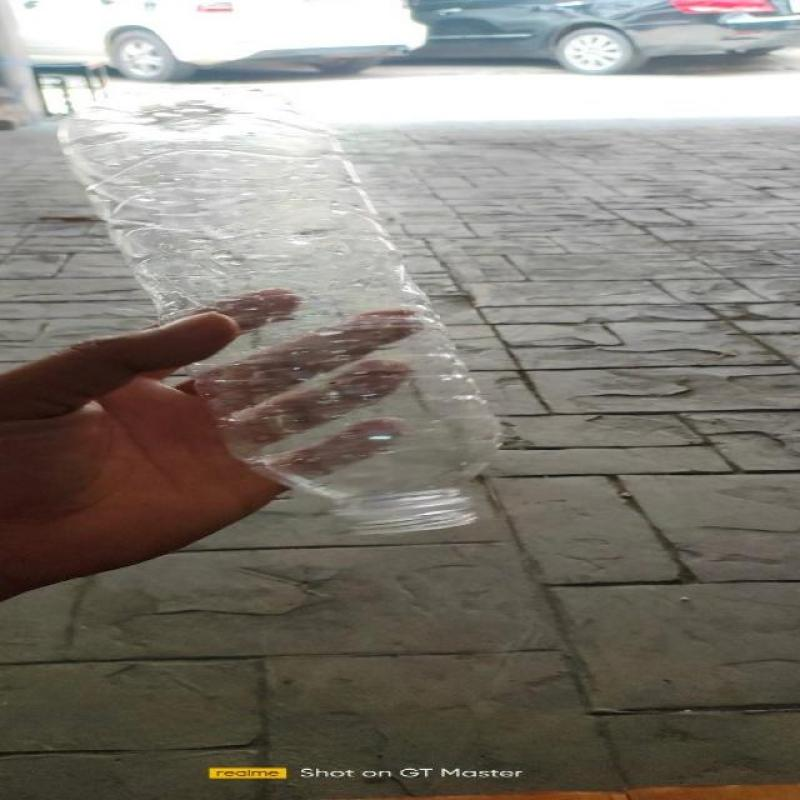botella: (53, 83, 503, 535)
